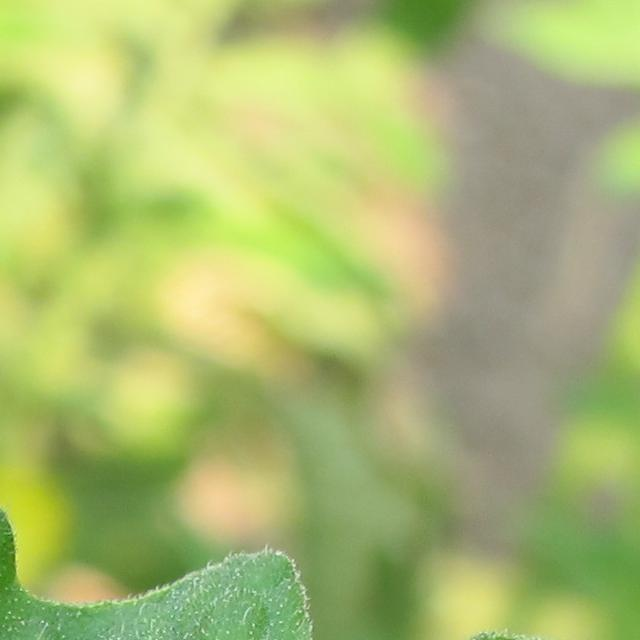Tomato leaf mosaic virus: (0, 62, 640, 640)
